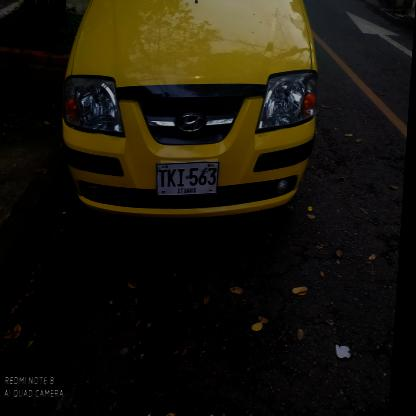placa: (154, 160, 224, 198)
